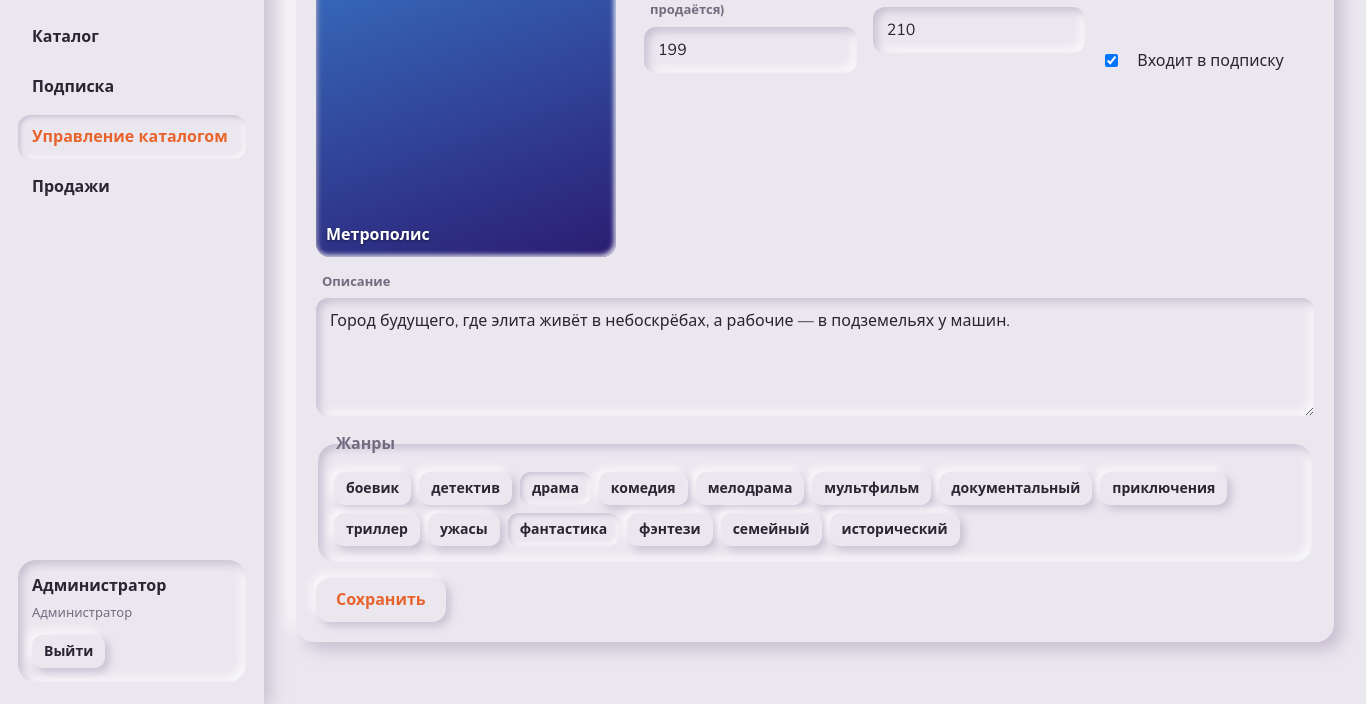
Test: администратор: каталог и продажи › устаревшая ревизия: правка из другой вкладки не затирается
This screenshot has width=1366, height=704.
(page scrolled)
Type " Реставрация 2010 года." into the text box labelled "Описание".
click(815, 357); type(" Реставрация 2010 года.")  # box [316,298,1314,416]
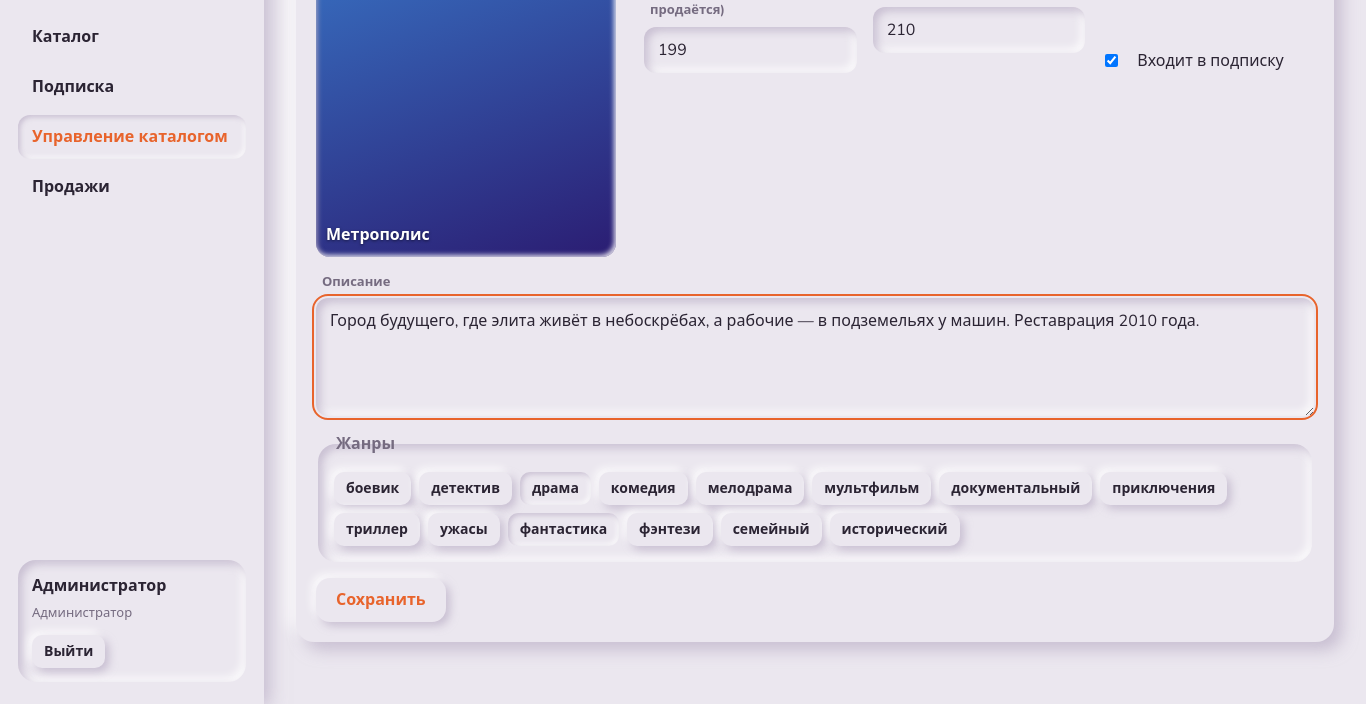
Click the button "Сохранить".
click(381, 600)  # box [316,578,446,622]
(page scrolled)
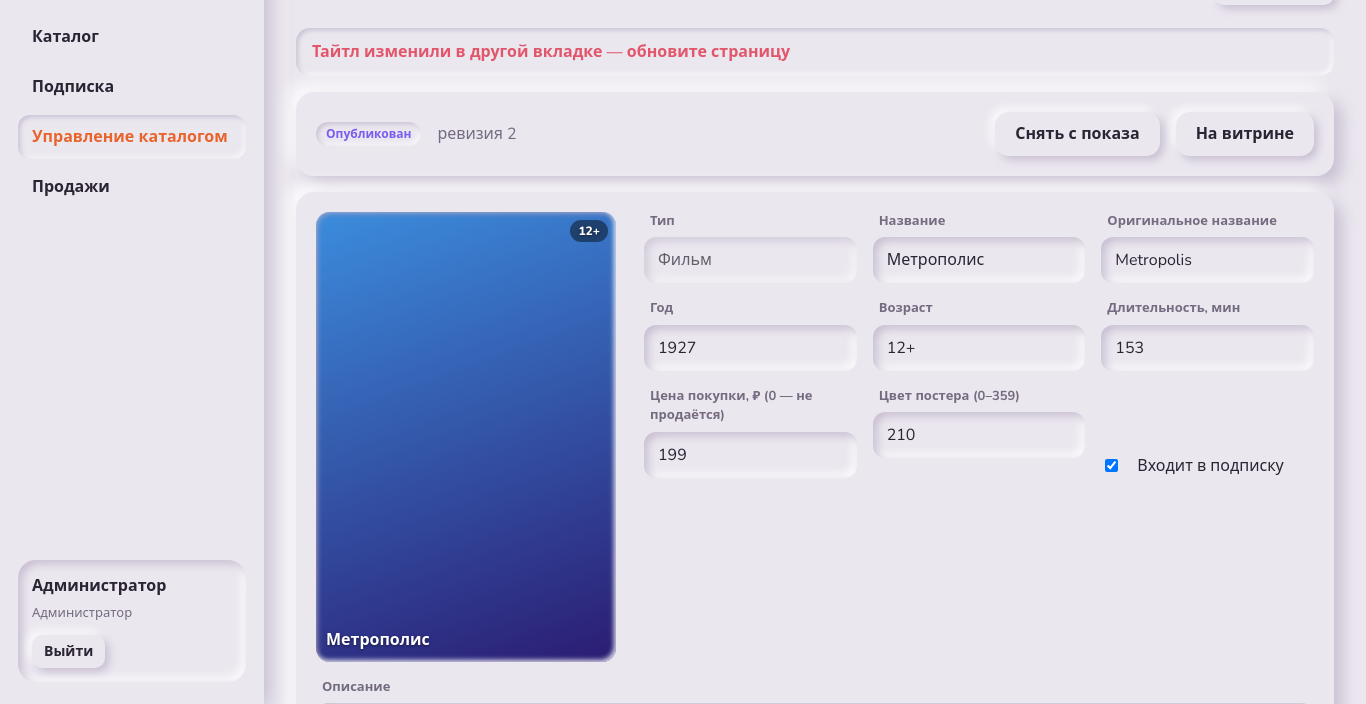
Check: the text "Тайтл изменили в другой вкладке — обновите страницу" is shown, box [296,28,1334,76]
